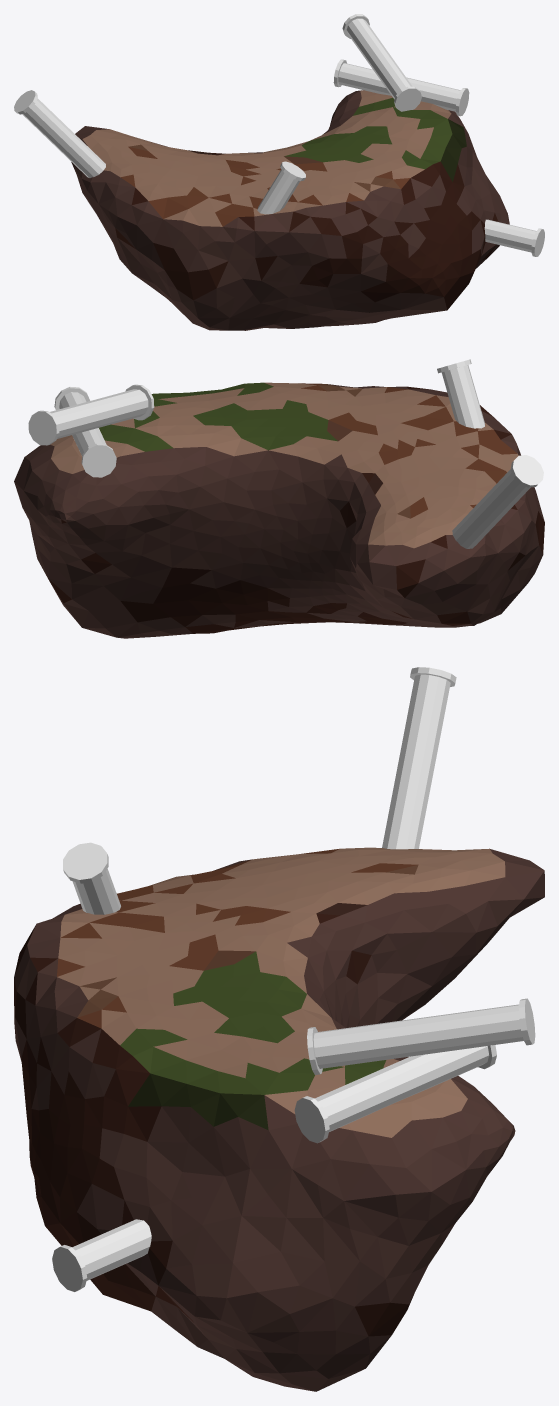
The model's file is bossisland.fbx.
3 views of the same model, one above another, from view 1: azimuth 30°, elevation 25°; view 2: azimuth 150°, elevation 25°; view 3: azimuth 270°, elevation 25° (orthographic). The views are drawn at different scales.
Visible parts, largest first — view 1: Land, Cylinder.001, Cylinder.004, Cylinder, Cylinder.002, Cylinder.003; view 2: Land, Cylinder.001, Cylinder.004, Cylinder, Cylinder.003; view 3: Land, Cylinder.001, Cylinder, Cylinder.004, Cylinder.002, Cylinder.003.
Part boxes in pixels (x1,y1,x2,y2): Land: [71, 90, 509, 330]; Cylinder.001: [342, 14, 421, 111]; Cylinder.004: [14, 90, 105, 177]; Cylinder: [333, 59, 469, 116]; Cylinder.002: [484, 219, 544, 256]; Cylinder.003: [257, 161, 305, 214]; Land: [14, 382, 544, 638]; Cylinder.001: [28, 384, 154, 445]; Cylinder.004: [452, 455, 543, 548]; Cylinder: [54, 387, 116, 477]; Cylinder.003: [437, 359, 484, 428]; Land: [14, 847, 544, 1391]; Cylinder.001: [307, 998, 535, 1074]; Cylinder: [294, 1045, 496, 1143]; Cylinder.004: [382, 667, 456, 849]; Cylinder.002: [52, 1219, 151, 1291]; Cylinder.003: [63, 842, 120, 914].
Size of the model in its own units: 2239 by 1283 by 1433.
